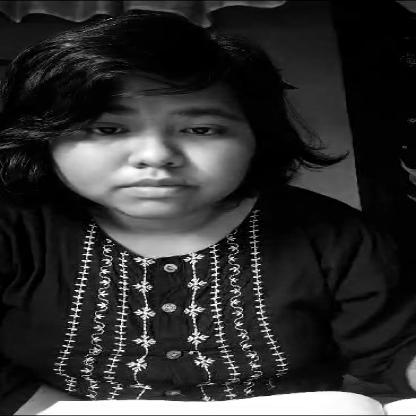Normal: (50, 79, 250, 216)
